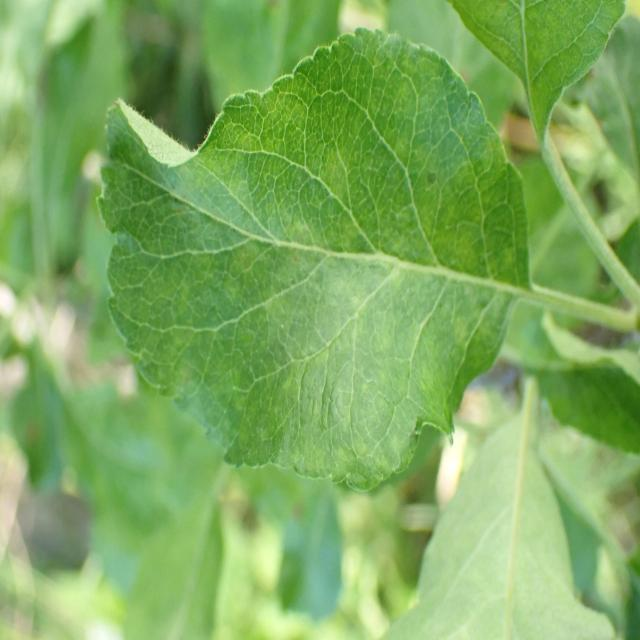scab: (120, 96, 498, 481)
